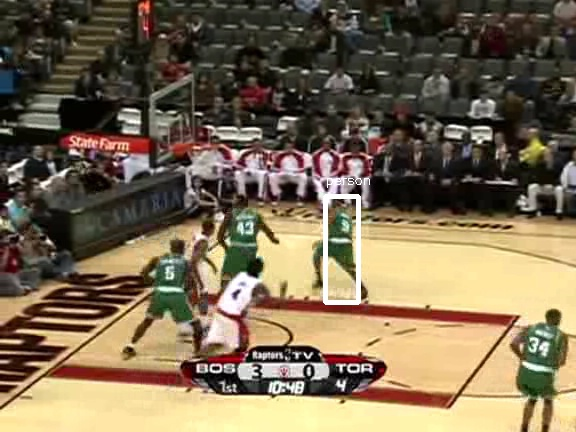person: (326, 201, 360, 282), (325, 201, 359, 282), (327, 201, 361, 282), (326, 200, 360, 281), (326, 202, 360, 283)
target_negative: (289, 147, 548, 331), (188, 90, 277, 261), (463, 79, 511, 326), (419, 145, 493, 294), (161, 407, 300, 422), (513, 405, 565, 412)
